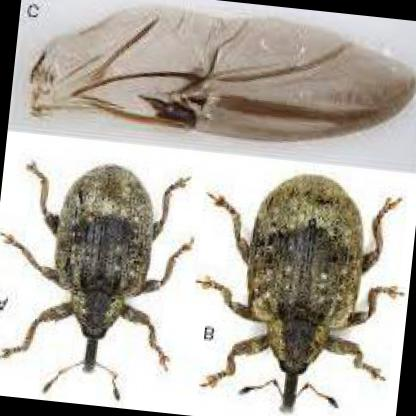ash weevil: (206, 173, 386, 413), (3, 165, 189, 370)
